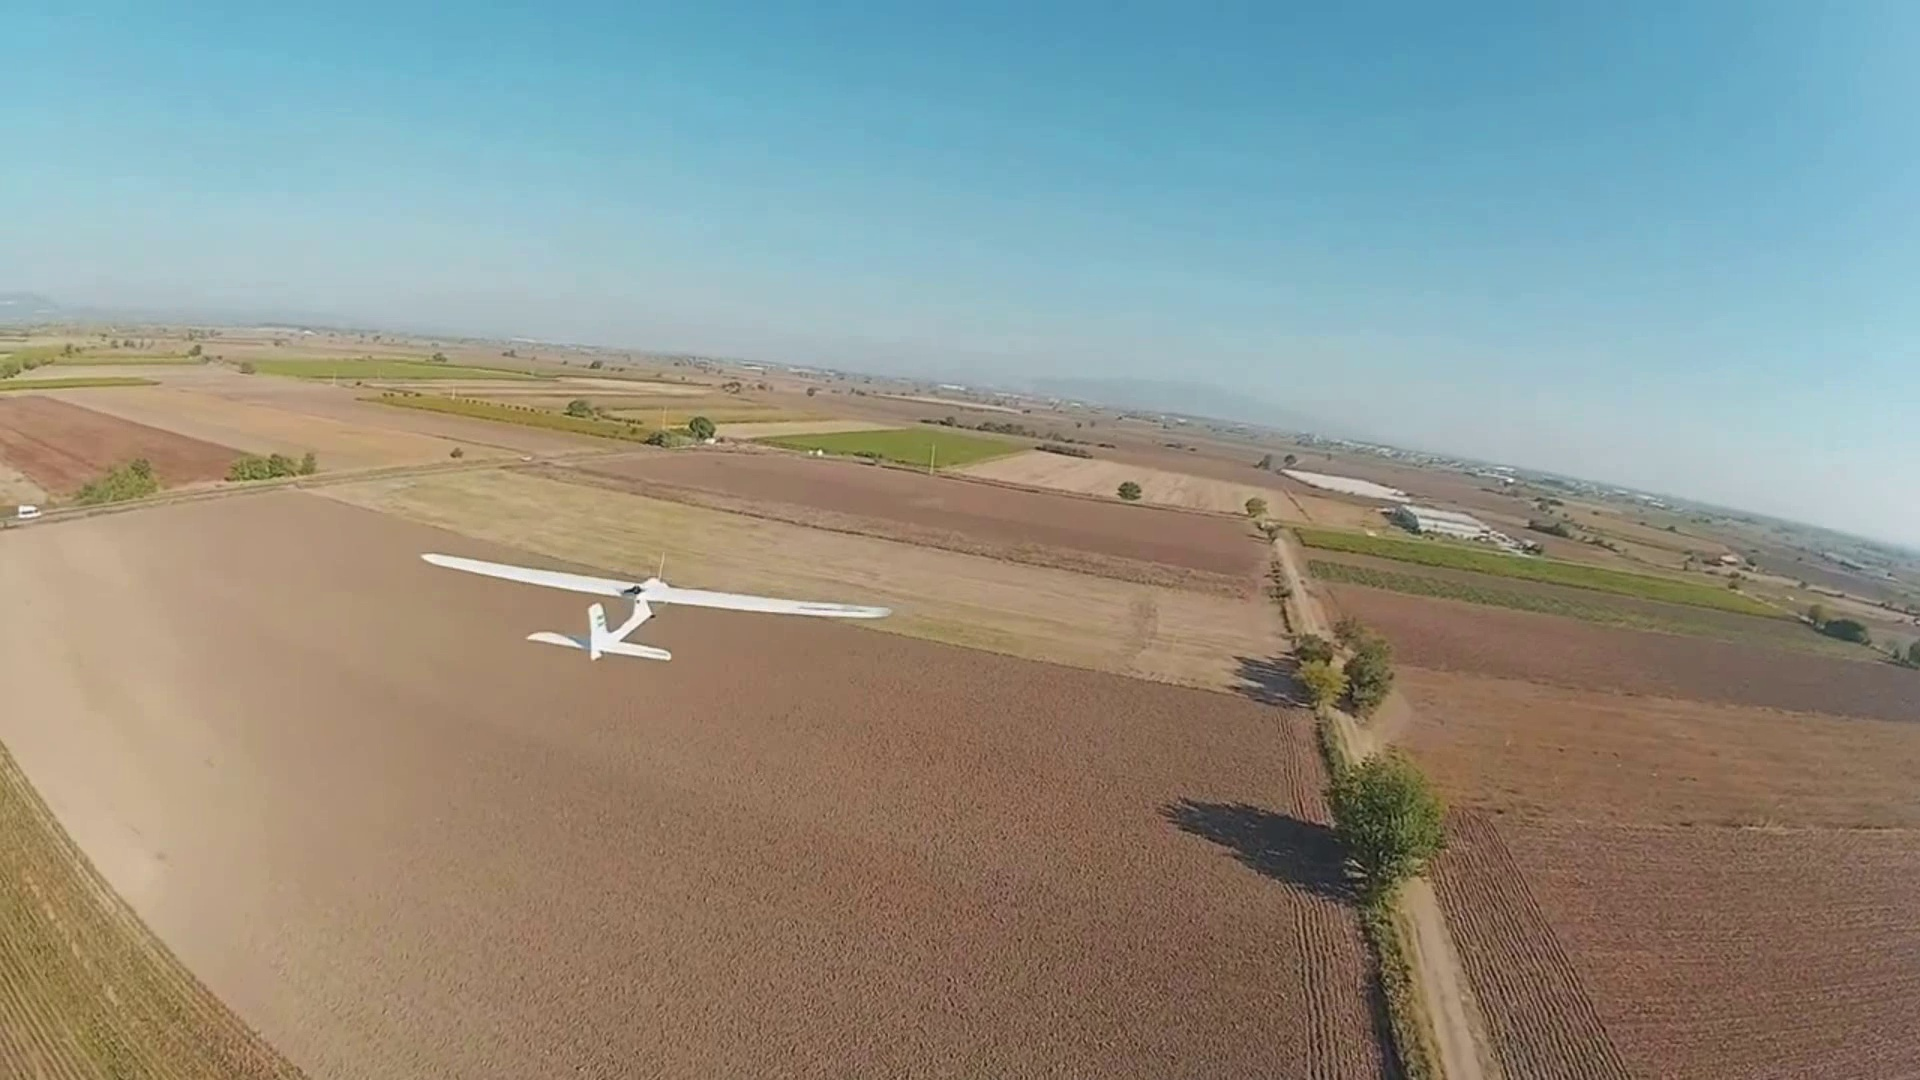airplane: (419, 549, 887, 666), (419, 551, 676, 662)
